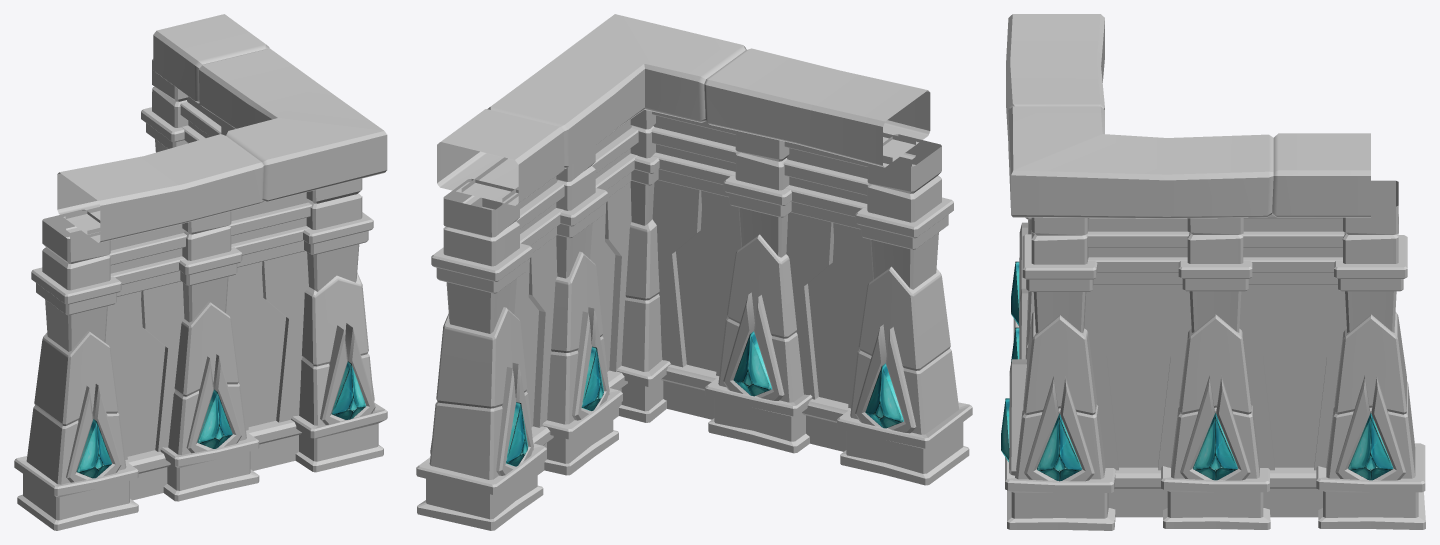
Rendered from Moonset_FBX_wall_04_corner.fbx.
3 views of the same model, side by side, from view 1: azimuth 30°, elevation 25°; view 2: azimuth 150°, elevation 25°; view 3: azimuth 270°, elevation 25° (orthographic). The views are drawn at different scales.
Parts seen in each view (by area): view 1: Wall_04_Base_04_Wall_4_base, Wall_4_Gem_Pillar4, Wall_4_Gem_Pillar_Corner, Wall_4_Gem_Pillar3, Wall_4_Gem_Pillar1; view 2: Wall_04_Base_04_Wall_4_base, Wall_4_Gem_Pillar1, Wall_4_Gem_Pillar4, Wall_4_Gem_Pillar3, Wall_4_Gem_Pillar, Wall_4_Gem_Pillar_Corner; view 3: Wall_04_Base_04_Wall_4_base, Wall_4_Gem_Pillar_Corner, Wall_4_Gem_Pillar1, Wall_4_Gem_Pillar, Wall_4_Gem_Pillar3, Wall_4_Gem_Pillar4.
Part boxes in pixels (x1,y1,x2,y2): Wall_04_Base_04_Wall_4_base: [57, 14, 387, 500]; Wall_4_Gem_Pillar4: [14, 209, 138, 530]; Wall_4_Gem_Pillar_Corner: [291, 178, 387, 472]; Wall_4_Gem_Pillar3: [160, 211, 259, 501]; Wall_4_Gem_Pillar1: [141, 59, 188, 152]; Wall_04_Base_04_Wall_4_base: [437, 14, 930, 474]; Wall_4_Gem_Pillar1: [416, 179, 546, 530]; Wall_4_Gem_Pillar4: [837, 134, 972, 485]; Wall_4_Gem_Pillar3: [705, 131, 812, 453]; Wall_4_Gem_Pillar: [542, 145, 622, 475]; Wall_4_Gem_Pillar_Corner: [617, 110, 670, 422]; Wall_04_Base_04_Wall_4_base: [1006, 14, 1370, 517]; Wall_4_Gem_Pillar_Corner: [1001, 217, 1115, 530]; Wall_4_Gem_Pillar1: [1316, 180, 1425, 529]; Wall_4_Gem_Pillar: [1161, 218, 1270, 529]; Wall_4_Gem_Pillar3: [1011, 217, 1034, 362]; Wall_4_Gem_Pillar4: [1011, 220, 1031, 340].
Bounding box in the file's own units: 8.32 × 7.67 × 8.19.
